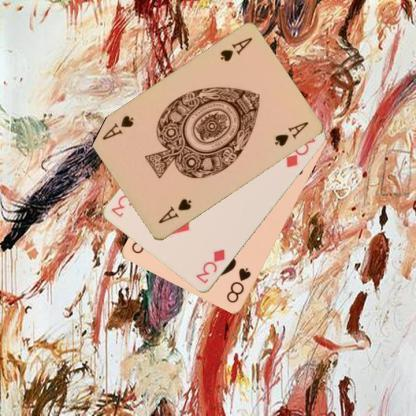3d: (192, 247, 226, 285)
8s: (223, 265, 252, 306)
As: (155, 196, 193, 226), (218, 34, 254, 64)
